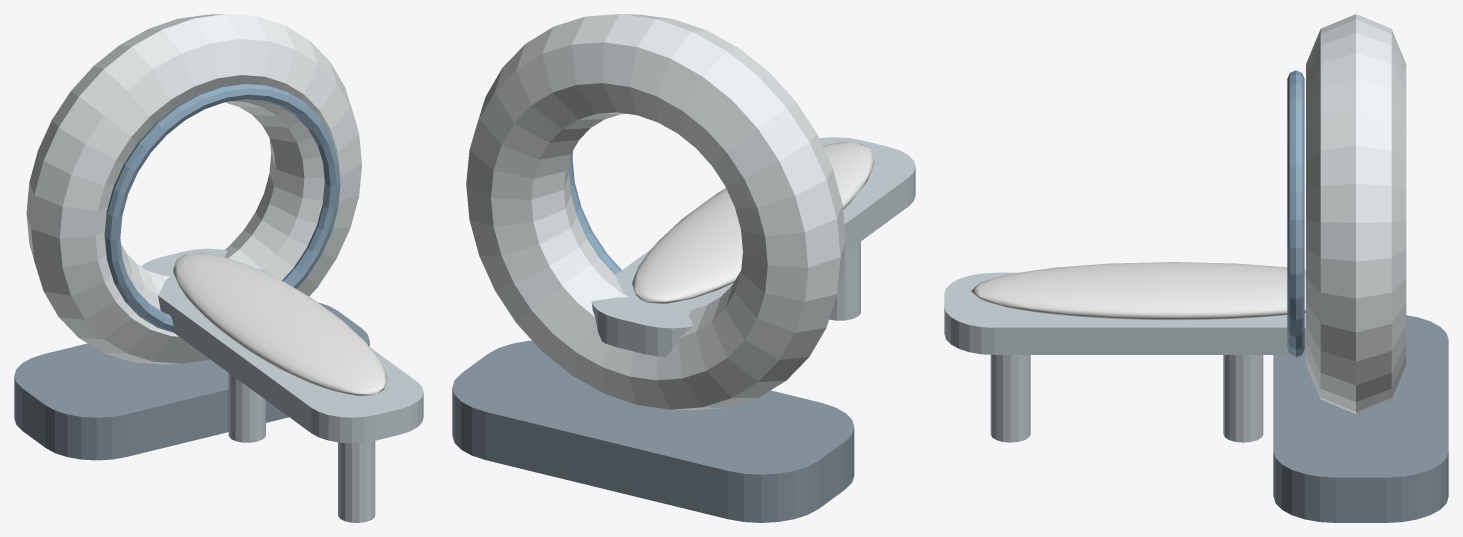
File: hospital_scanner.glb
The picture shows the model from 3 angles, left to right: view 1: azimuth 30°, elevation 25°; view 2: azimuth 150°, elevation 25°; view 3: azimuth 270°, elevation 25°; orthographic projection. The views are drawn at different scales.
Parts seen in each view (by area): view 1: decor_d4dfe3_matte, decor_455665_metal, decor_9aadb8_metal, decor_d8dcd8_fabric, decor_476a8a_matte; view 2: decor_d4dfe3_matte, decor_455665_metal, decor_9aadb8_metal, decor_d8dcd8_fabric, decor_476a8a_matte; view 3: decor_d4dfe3_matte, decor_455665_metal, decor_9aadb8_metal, decor_d8dcd8_fabric, decor_476a8a_matte.
Boxes of the visible parts, x1,y1,x2,y2 form: decor_d4dfe3_matte: (26,14,361,364); decor_455665_metal: (14,302,369,460); decor_9aadb8_metal: (141,248,423,522); decor_d8dcd8_fabric: (173,253,387,396); decor_476a8a_matte: (104,84,340,332); decor_d4dfe3_matte: (466,14,845,410); decor_455665_metal: (452,340,854,522); decor_9aadb8_metal: (591,137,915,356); decor_d8dcd8_fabric: (632,142,874,303); decor_476a8a_matte: (569,151,621,274); decor_d4dfe3_matte: (1306,14,1406,413); decor_455665_metal: (1273,315,1448,522); decor_9aadb8_metal: (944,272,1305,442); decor_d8dcd8_fabric: (970,262,1305,320); decor_476a8a_matte: (1287,70,1304,357).
Size of the model in its own units: 1.6 by 1.8 by 2.01.
